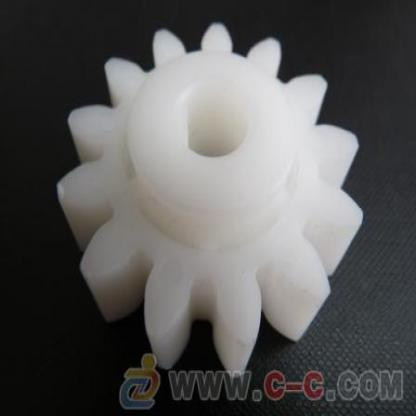FOD: (53, 17, 366, 377)
